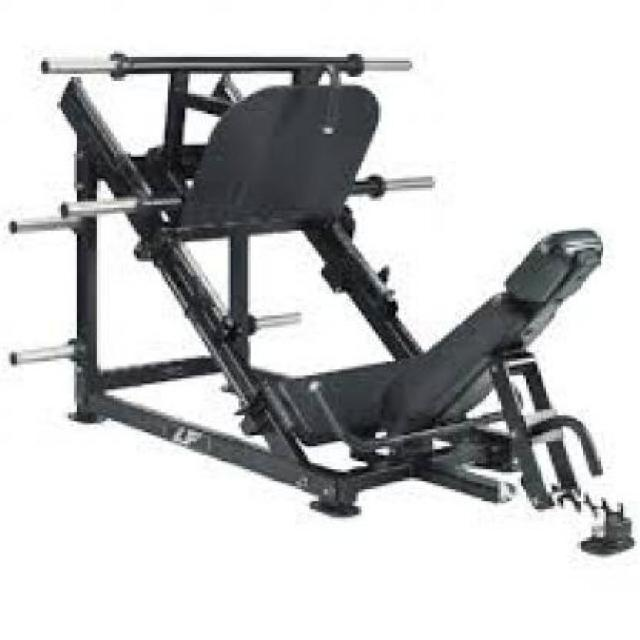leg press: (4, 27, 640, 580)
